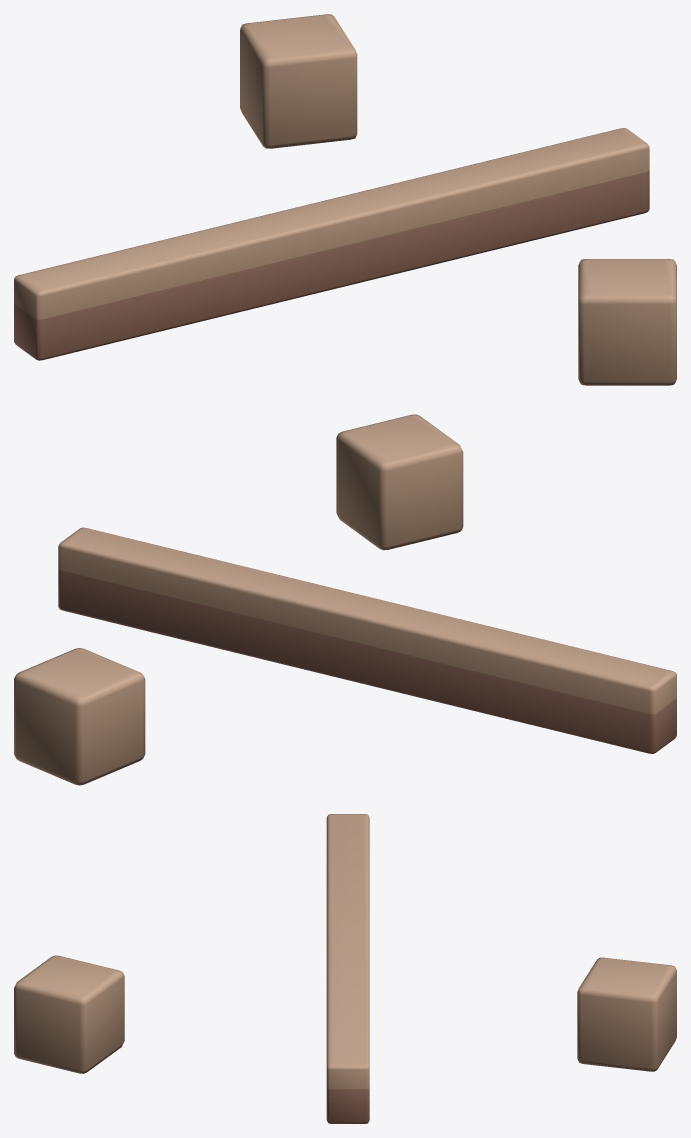
Rendered from Props.fbx.
The picture shows the model from 3 angles, top to bottom: view 1: azimuth 30°, elevation 25°; view 2: azimuth 150°, elevation 25°; view 3: azimuth 270°, elevation 25°; orthographic projection. The views are drawn at different scales.
Visible parts, largest first — view 1: Box20-3_2, Box1-6 (1), Box1-6; view 2: Box20-3_2, Box1-6 (1), Box1-6; view 3: Box20-3_2, Box1-6, Box1-6 (1).
Boxes of the visible parts, x1,y1,x2,y2 form: Box20-3_2: (14,128,649,360); Box1-6 (1): (240,14,357,148); Box1-6: (578,259,676,385); Box20-3_2: (58,527,676,753); Box1-6 (1): (14,648,145,785); Box1-6: (336,414,463,550); Box20-3_2: (326,814,369,1123); Box1-6: (14,955,124,1073); Box1-6 (1): (577,957,676,1071).
Bounding box in the file's own units: 14 × 1.95 × 15.45.
1 material, 1 textured.
